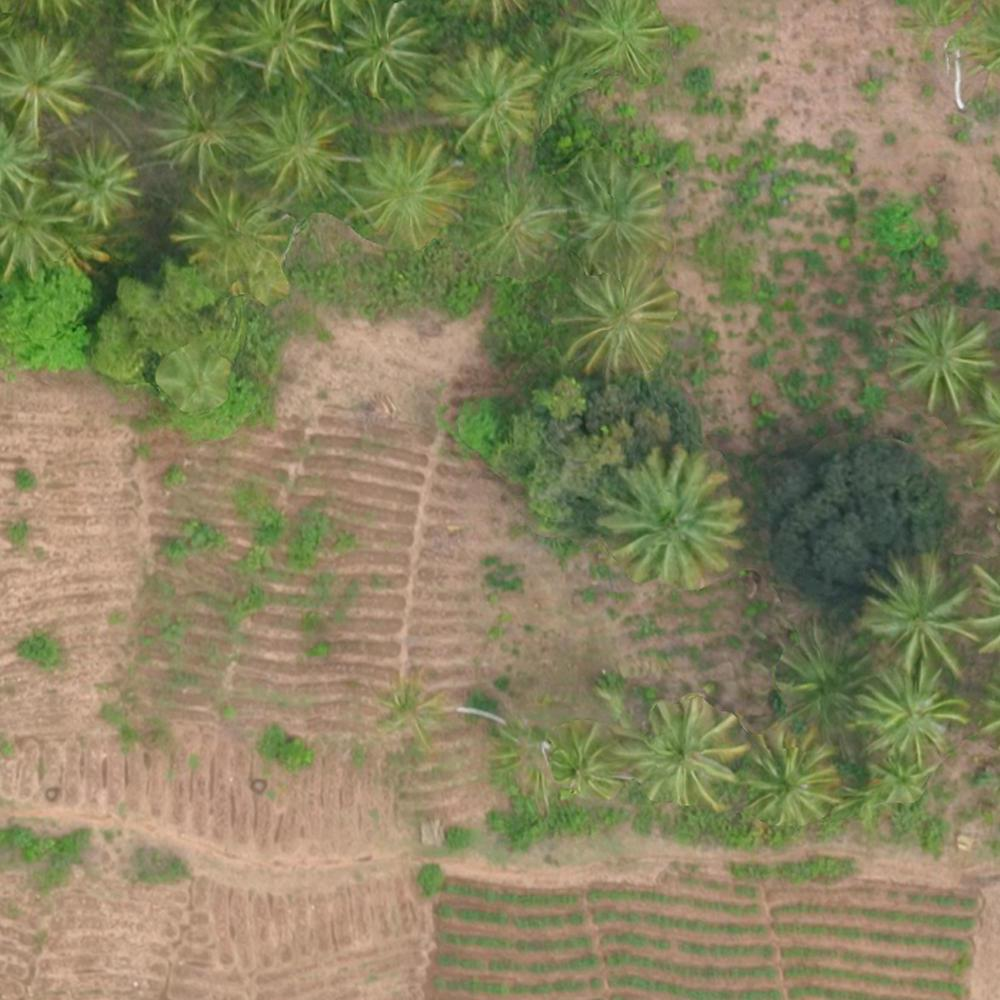Palm: (608, 458, 736, 582), (622, 699, 738, 805), (425, 44, 543, 144), (563, 262, 672, 368), (355, 135, 464, 239), (564, 152, 669, 259), (174, 184, 294, 276), (238, 96, 351, 193), (871, 554, 968, 666), (892, 307, 990, 405), (564, 1, 670, 86), (222, 1, 336, 79), (335, 2, 428, 96), (860, 667, 957, 757), (3, 35, 93, 131), (743, 732, 840, 821), (119, 2, 219, 85), (154, 86, 241, 169), (53, 139, 136, 219), (3, 182, 77, 271), (543, 721, 622, 804), (868, 749, 941, 810)
